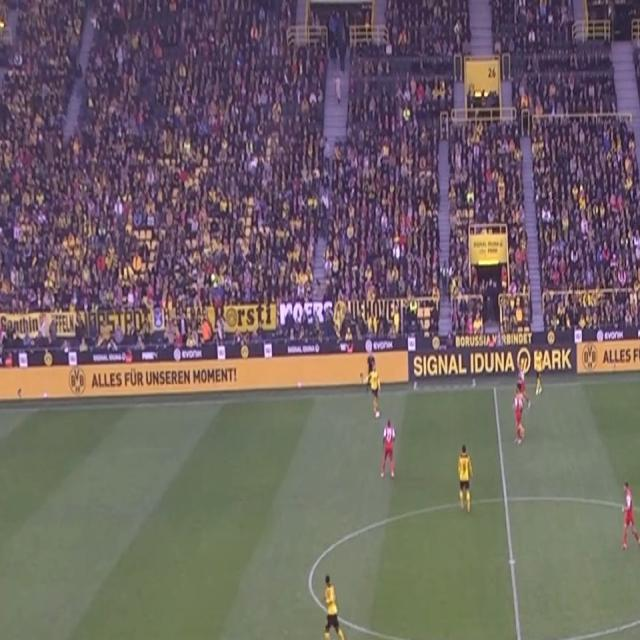ball: (375, 409, 380, 420)
